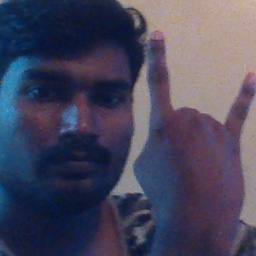V: (131, 27, 256, 228)
